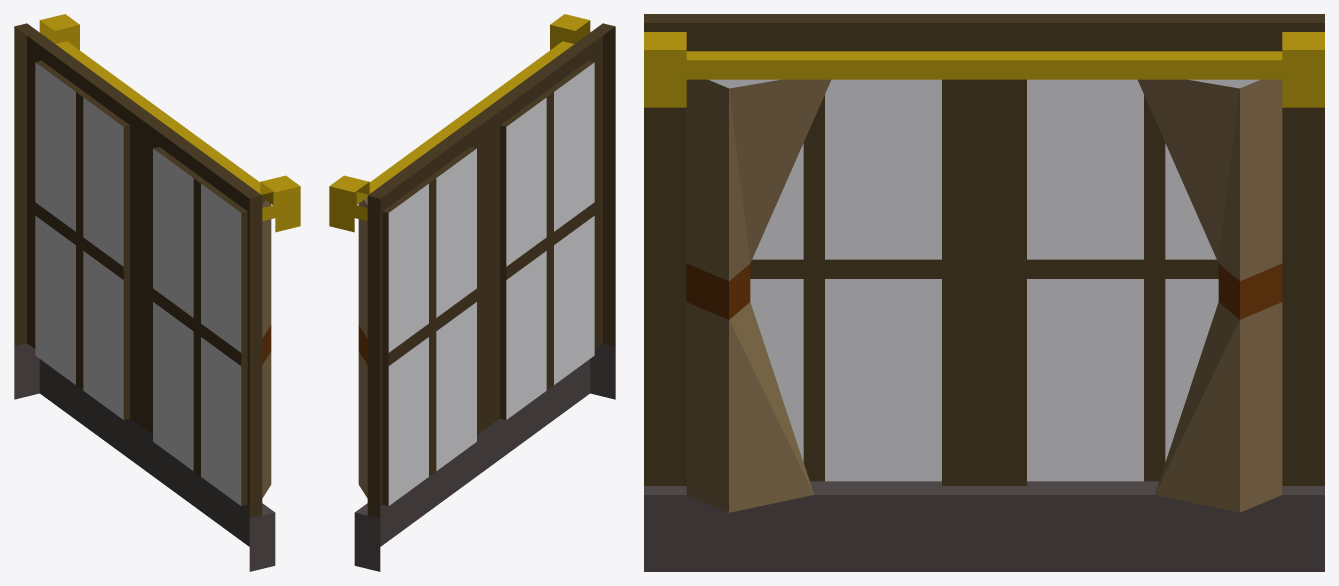
The model's file is model_loc_1827_q.obj.
3 views of the same model, side by side, from view 1: azimuth 30°, elevation 25°; view 2: azimuth 150°, elevation 25°; view 3: azimuth 270°, elevation 25° (orthographic). The views are drawn at different scales.
Visible parts, largest first — view 1: 2028; view 2: 2028; view 3: 2028.
Boxes of the visible parts, left/top/right/bottom form: 2028: left=14, top=14, right=300, bottom=571; 2028: left=329, top=14, right=615, bottom=571; 2028: left=644, top=14, right=1324, bottom=571.
Size of the model in its own units: 16 by 112 by 128.
